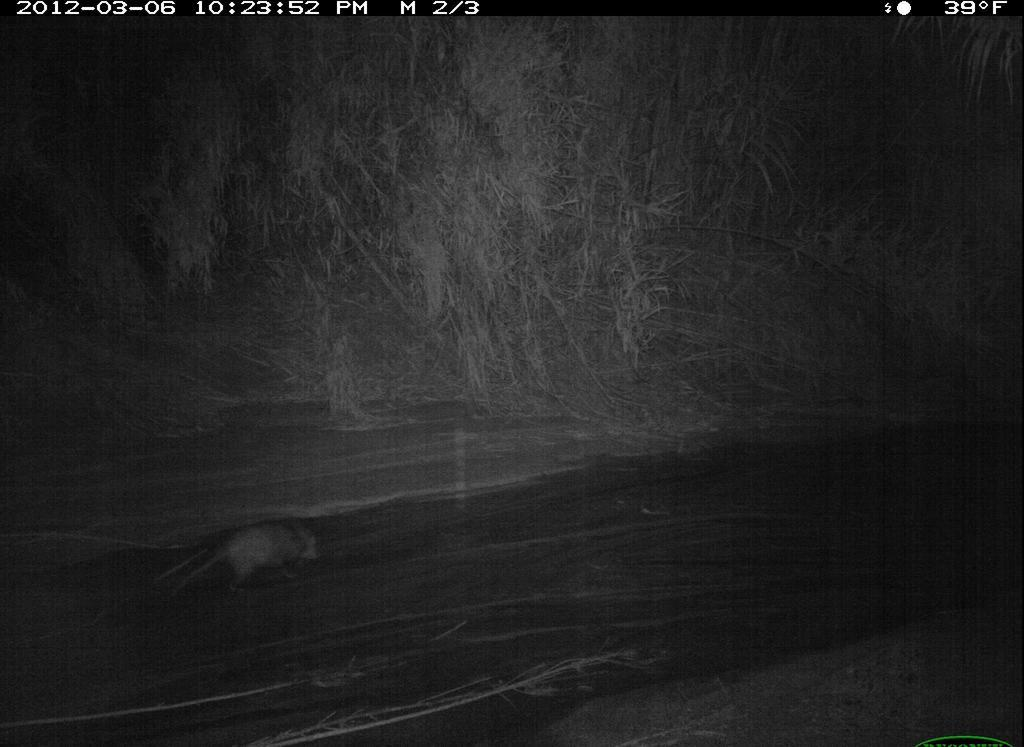opossum: (166, 518, 327, 603)
